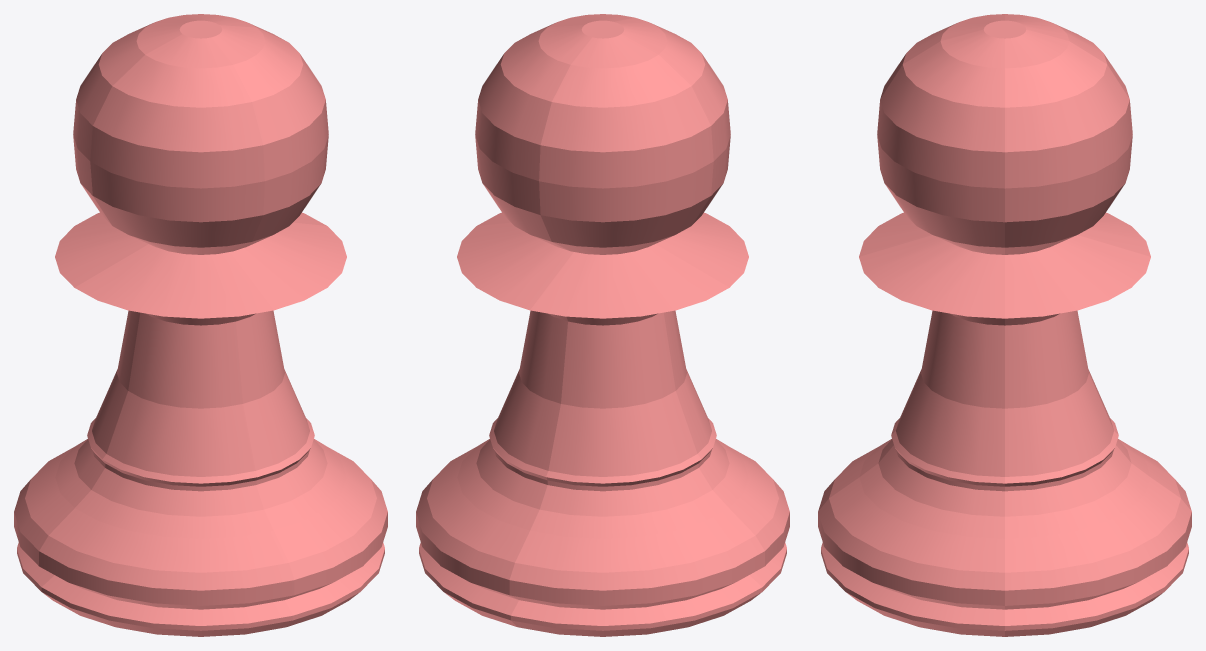
File: pawn.dae
The picture shows the model from 3 angles, left to right: view 1: azimuth 30°, elevation 25°; view 2: azimuth 150°, elevation 25°; view 3: azimuth 270°, elevation 25°; orthographic projection.
Visible parts, largest first — view 1: SketchUp (×3); view 2: SketchUp (×3); view 3: SketchUp (×3).
Part boxes in pixels (x1=…): SketchUp (×3): x1=14, y1=14, x2=387, y2=636; SketchUp (×3): x1=416, y1=14, x2=789, y2=636; SketchUp (×3): x1=818, y1=14, x2=1191, y2=636.
Bounding box in the file's own units: 27.69 × 27.69 × 43.75.
